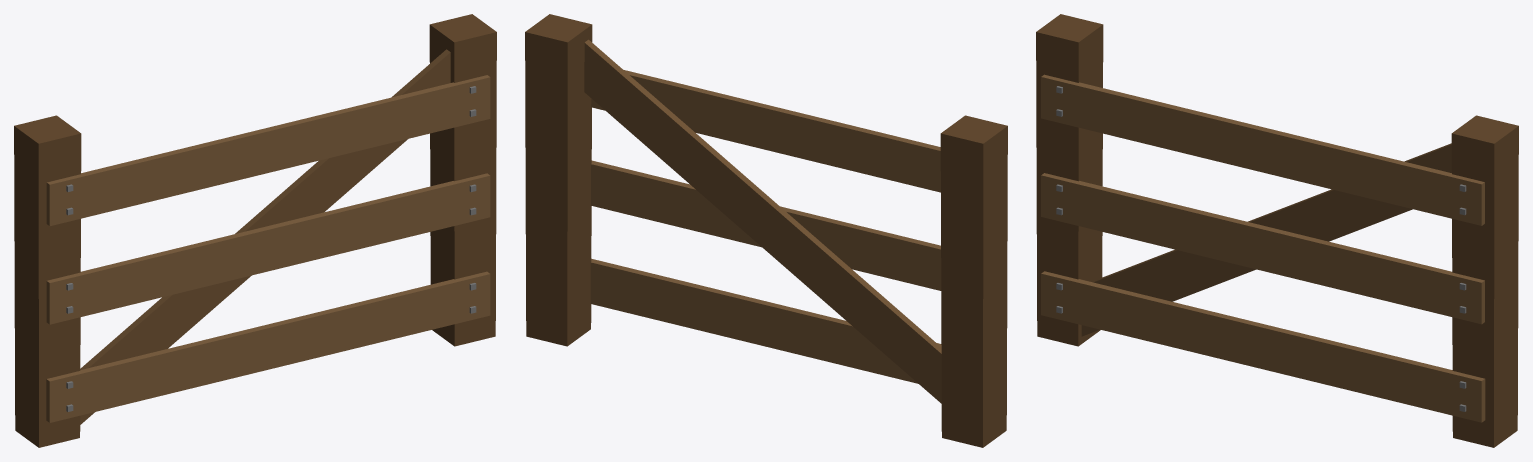
Rendered from Mesh_Props_Arch_03.FBX.
3 renders of one model, left to right at view 1: azimuth 30°, elevation 25°; view 2: azimuth 150°, elevation 25°; view 3: azimuth 330°, elevation 25°, orthographic.
Parts seen in each view (by area): view 1: Mesh_Props_Arch_03; view 2: Mesh_Props_Arch_03; view 3: Mesh_Props_Arch_03.
Boxes of the visible parts, x1,y1,x2,y2 form: Mesh_Props_Arch_03: (14, 14, 496, 447); Mesh_Props_Arch_03: (525, 14, 1007, 447); Mesh_Props_Arch_03: (1036, 14, 1518, 447).
Size of the model in its own units: 68.18 by 43.31 by 7.49.
